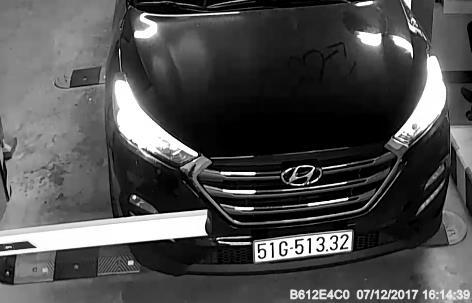License-plate: (244, 233, 355, 261)
